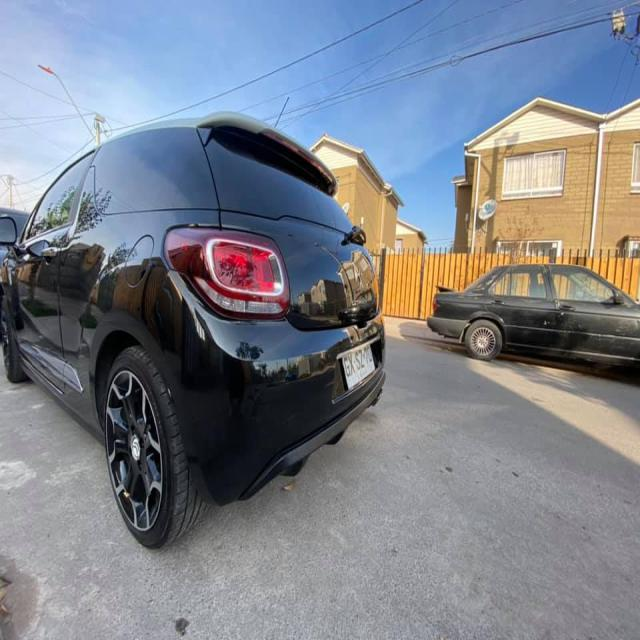patente: (337, 342, 377, 391)
